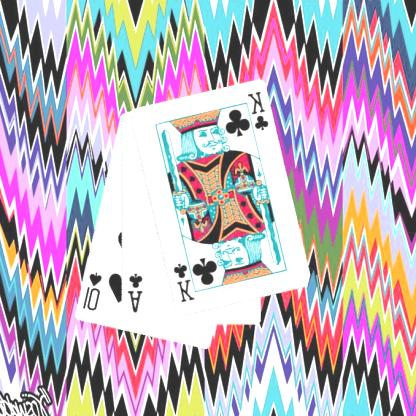10S: (81, 270, 105, 312)
AC: (126, 271, 145, 314)
KC: (243, 89, 272, 139), (172, 254, 200, 303)
